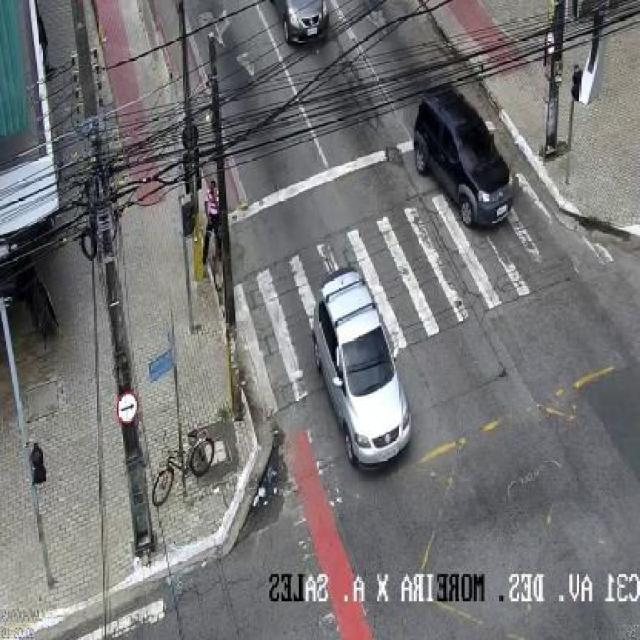Car: (311, 269, 413, 470), (411, 86, 517, 230), (268, 0, 331, 45)
Cycle: (150, 430, 216, 508)
